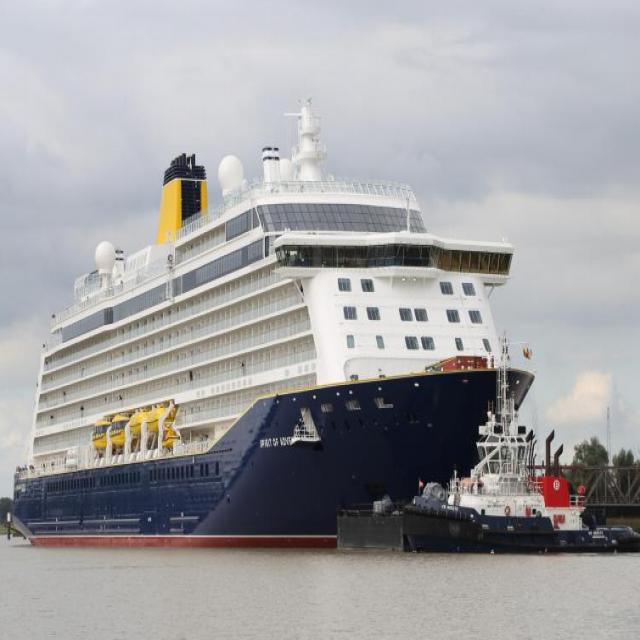cruises: (6, 90, 540, 557)
